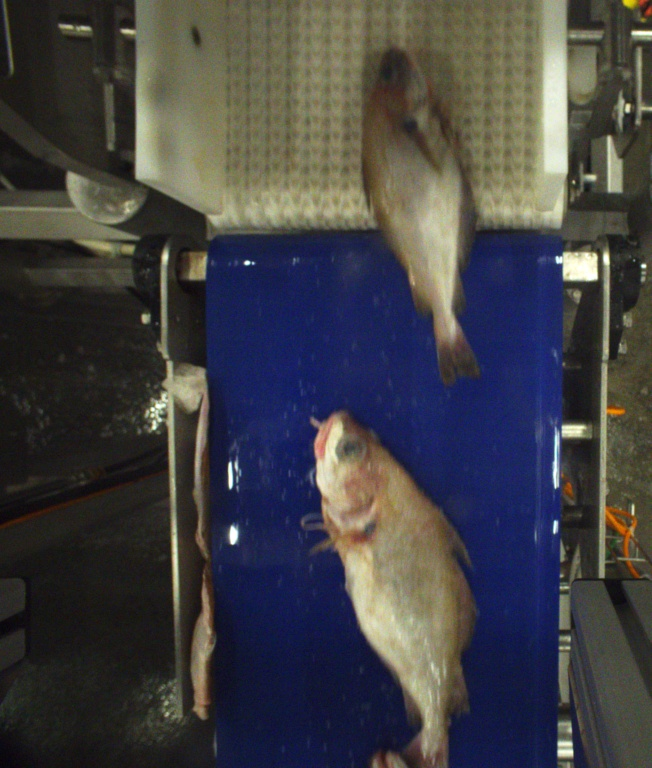BIB: (301, 415, 472, 768)
